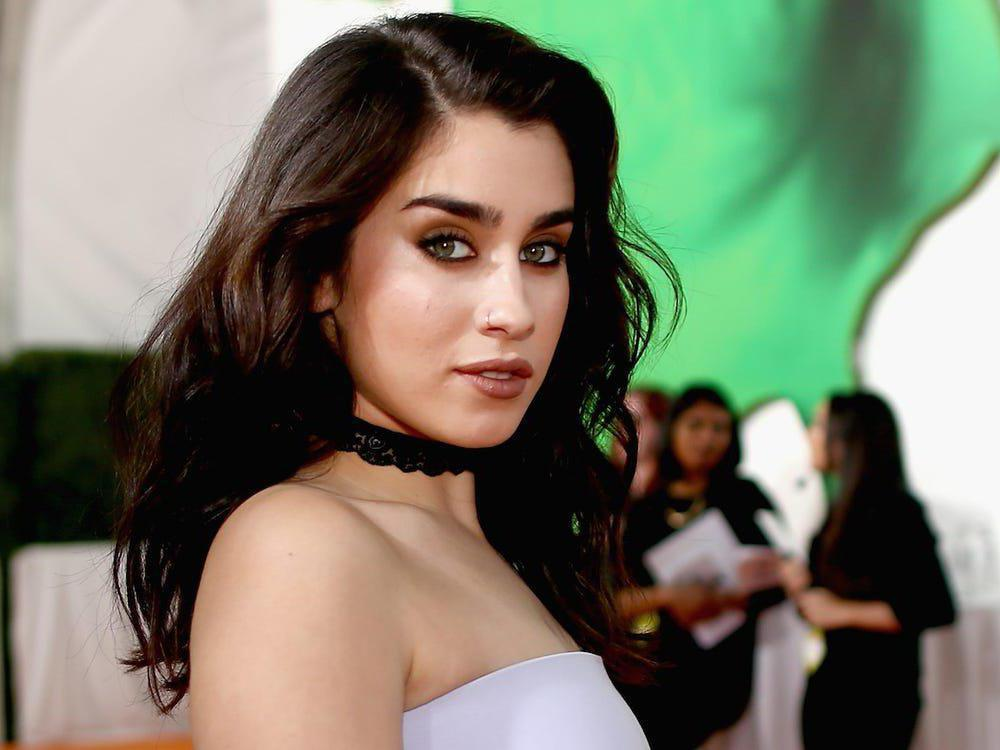Sober: (364, 134, 567, 430)
